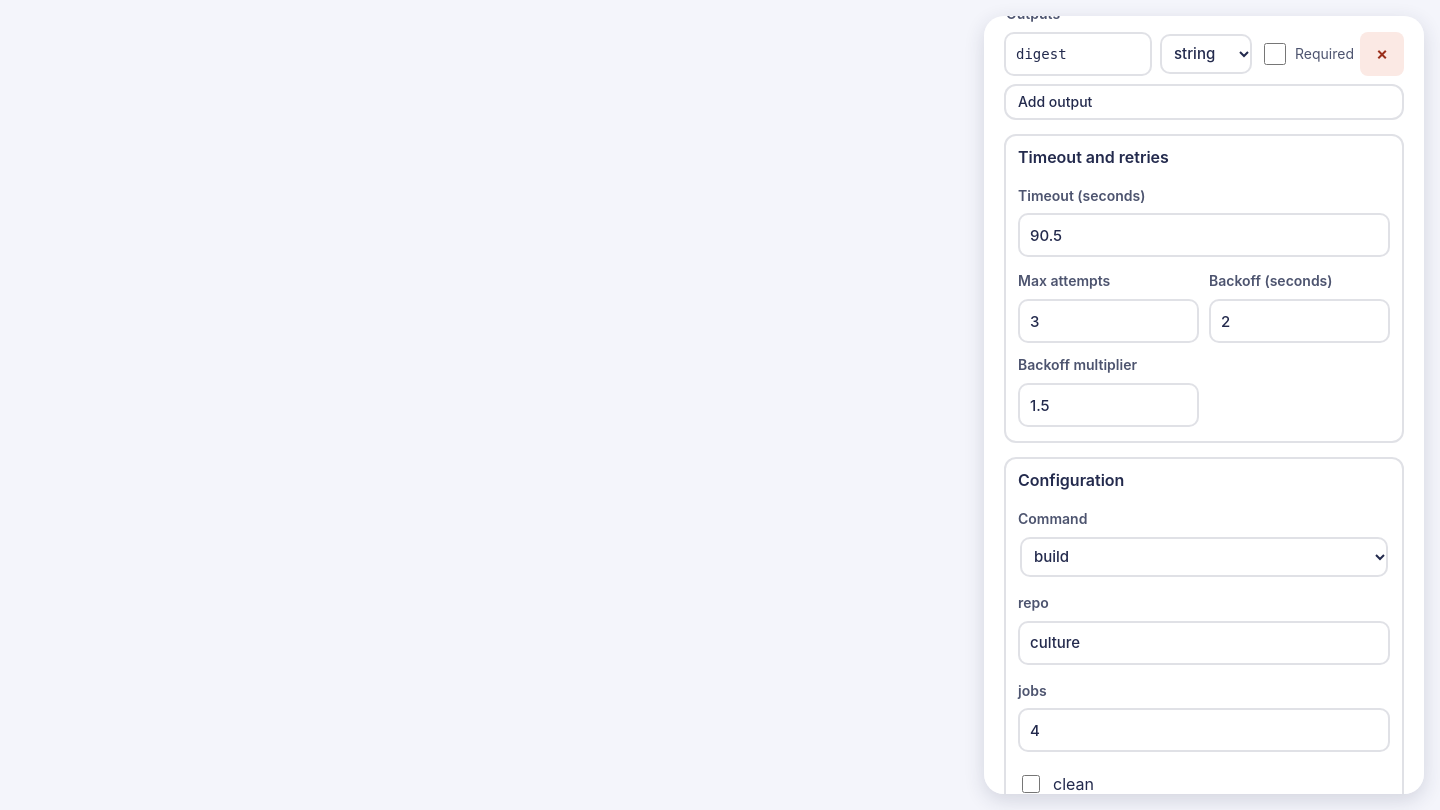
Test case: StepEditor: guided validation › rejects Backoff multiplier = x
(page scrolled)
Replace the text in the field labelled "Backoff multiplier" with "x" at (1108, 405), box [1018,383,1199,427]
(page scrolled)
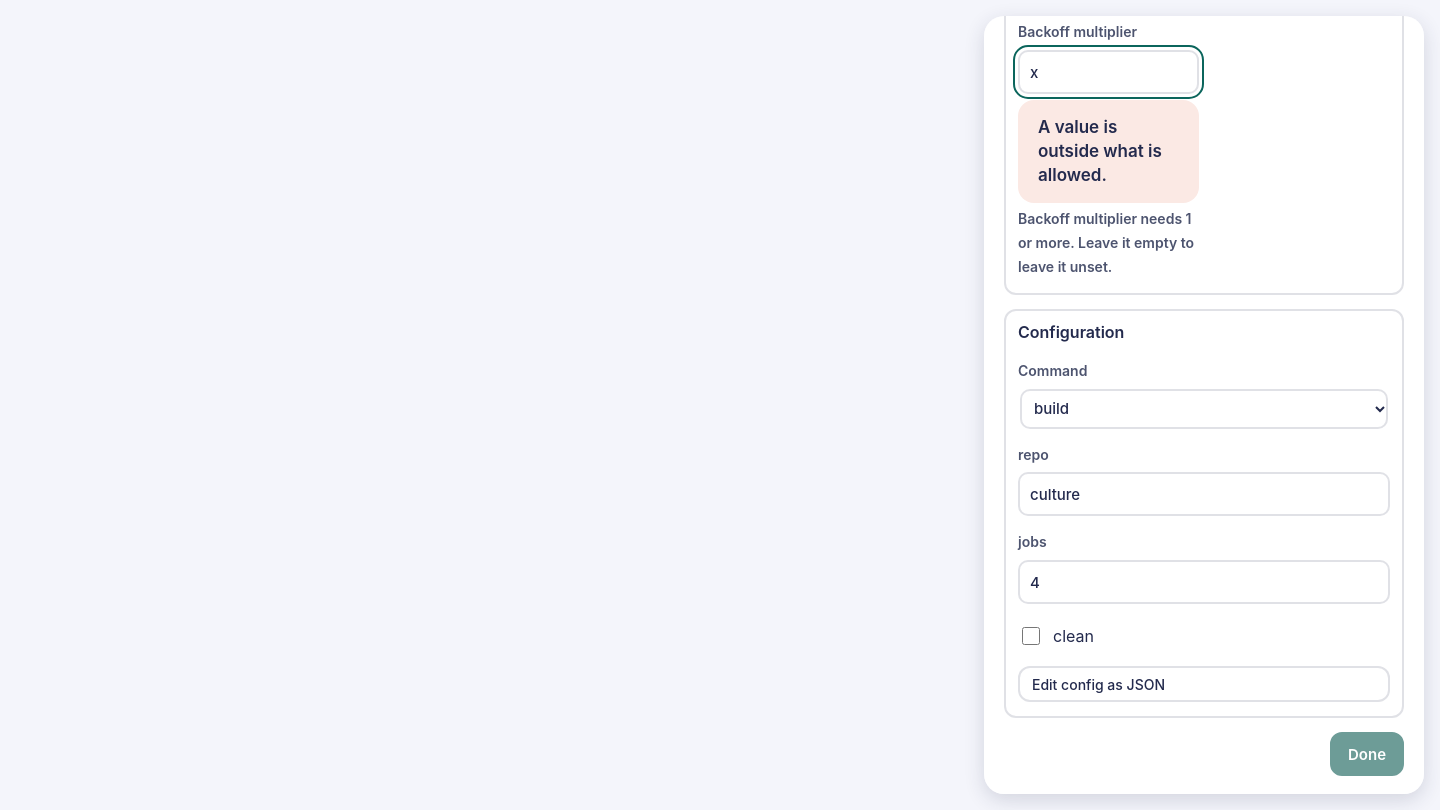
Expected: the message "A value is outside what is allowed." is shown, [1018,100,1199,203]
Expected: the button "Done" is disabled, [1330,732,1404,776]
